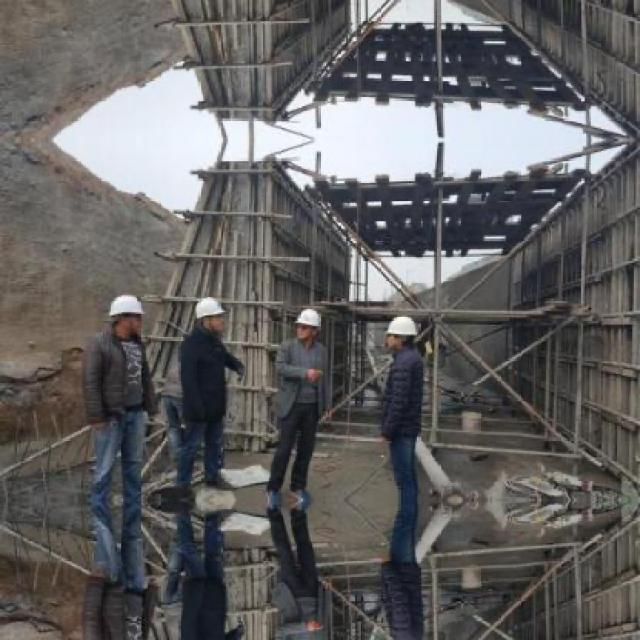helmet: (106, 291, 143, 337), (384, 310, 418, 348), (192, 294, 226, 331), (296, 306, 322, 343)
